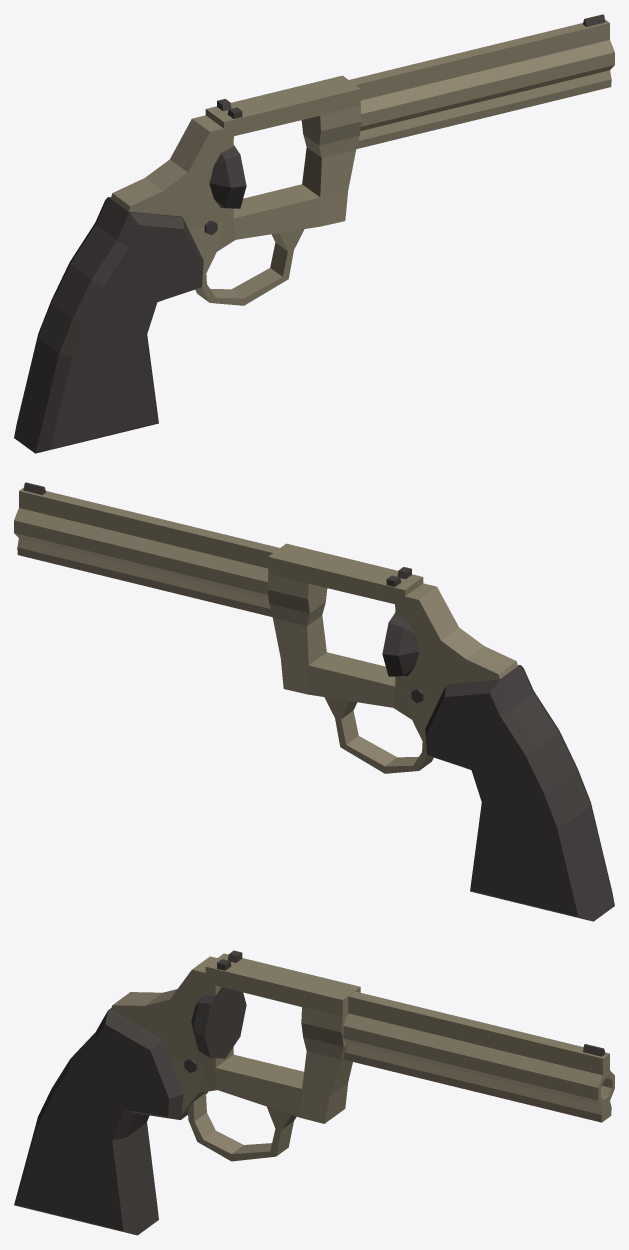
The model's file is Pistol5_06.fbx.
3 views of the same model, one above another, from view 1: azimuth 30°, elevation 25°; view 2: azimuth 150°, elevation 25°; view 3: azimuth 330°, elevation 25° (orthographic).
Visible parts, largest first — view 1: Pistol5_06; view 2: Pistol5_06; view 3: Pistol5_06.
Part boxes in pixels (<box>): Pistol5_06: <box>14,14,614,453</box>; Pistol5_06: <box>14,482,614,921</box>; Pistol5_06: <box>14,950,614,1235</box>.
Size of the model in its own units: 0.3781 by 0.18 by 0.0474.
